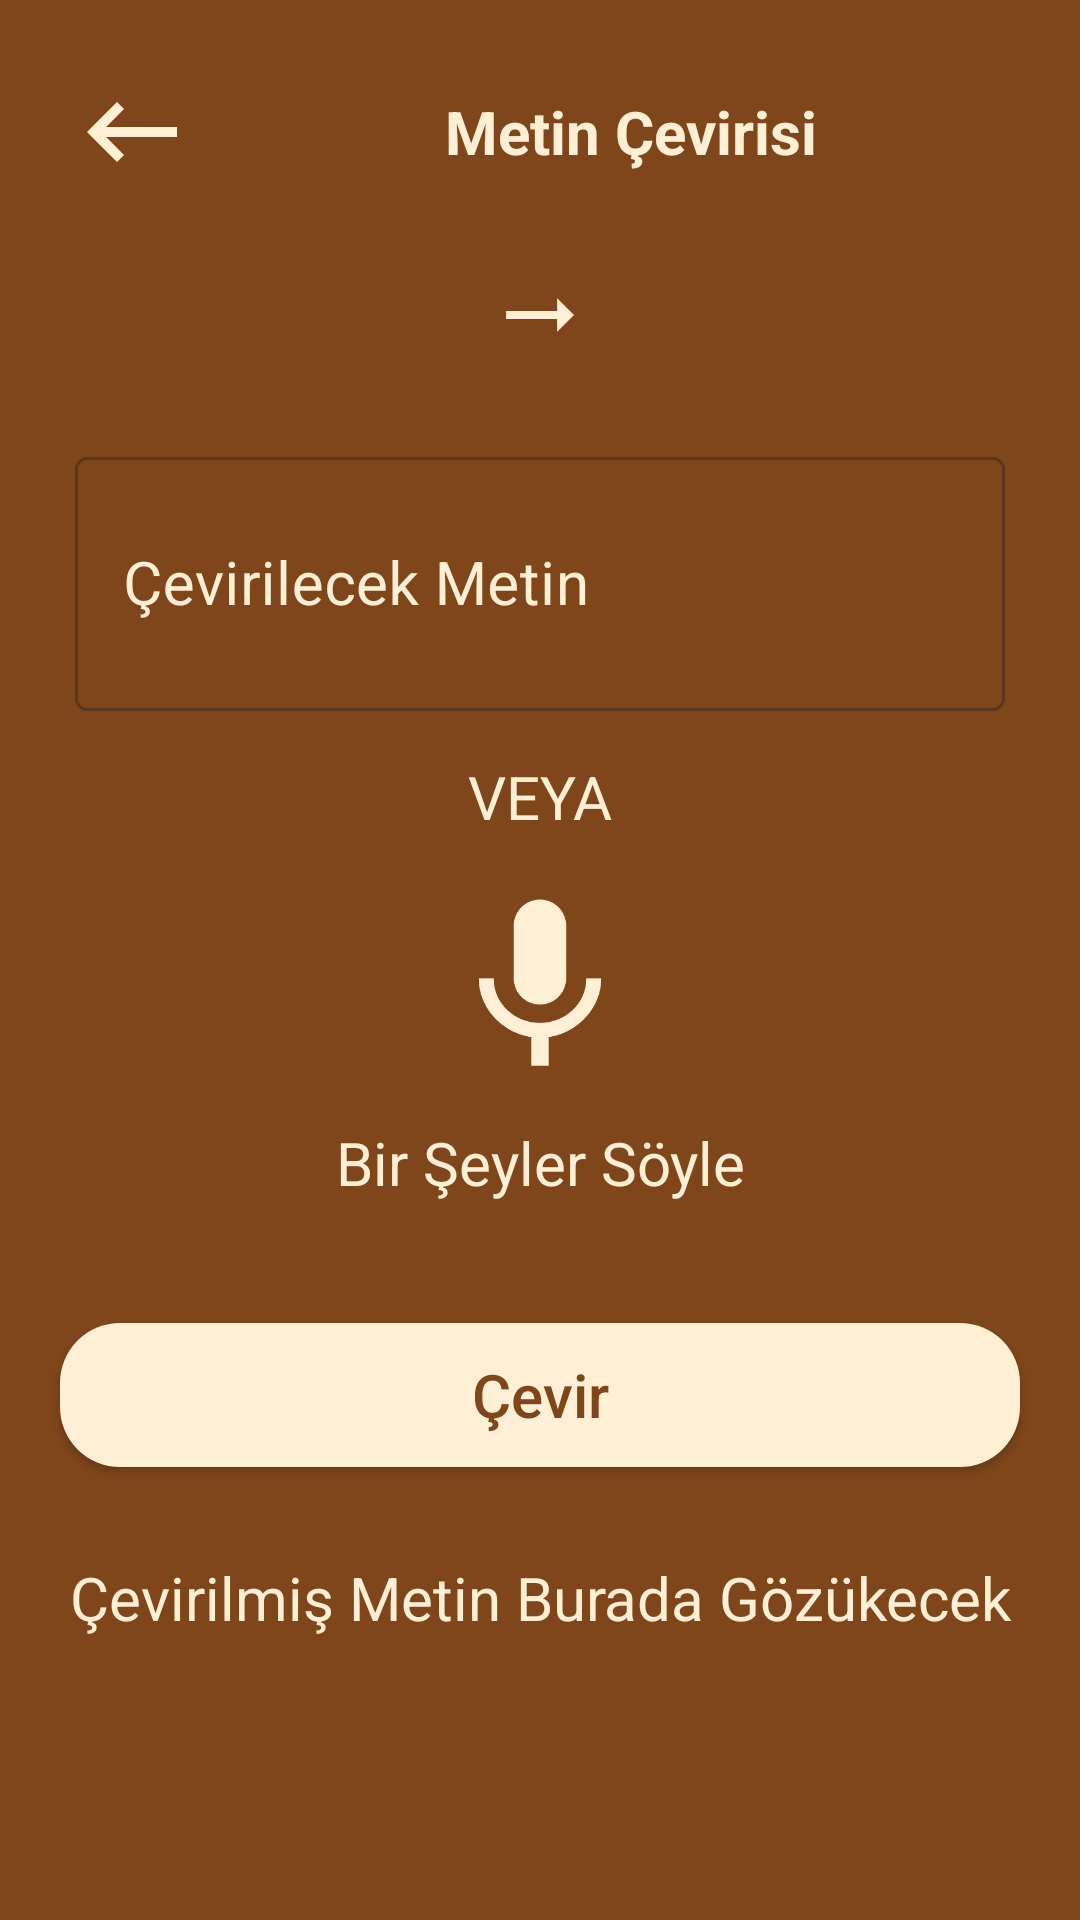

Where to tap for icons on this 1080 × 1920 app screen, as (x,y):
back: (132,132)
mic: (540,982)
right arrow: (540,315)
